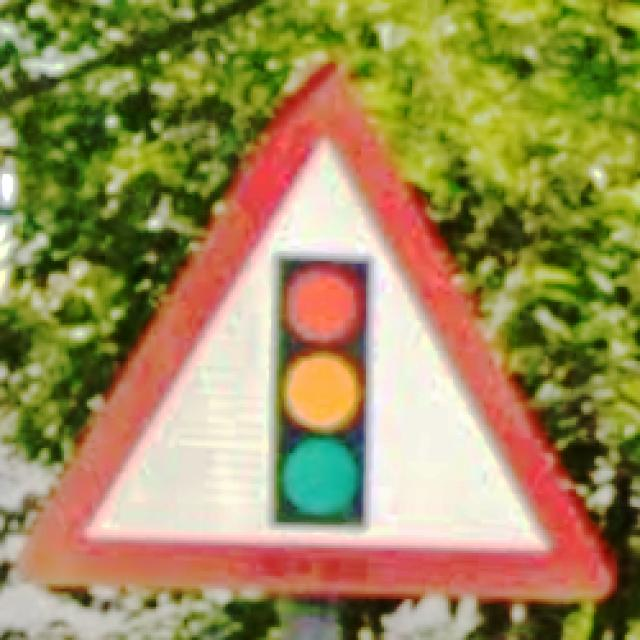signalahead: (16, 59, 615, 600)
